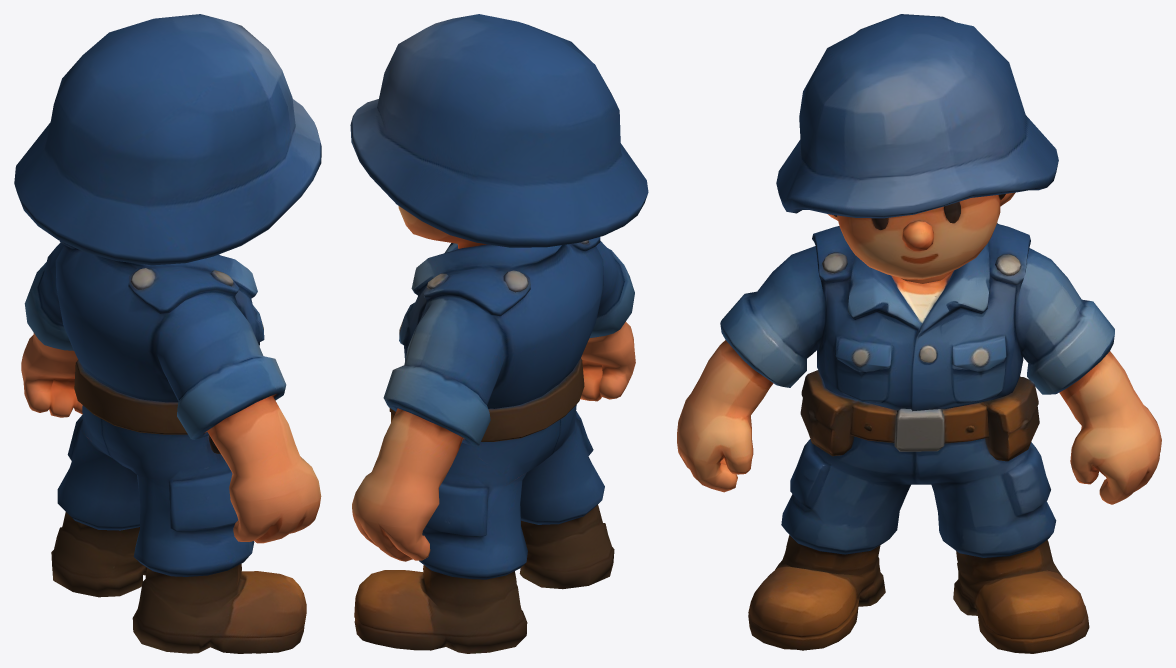
The picture shows the model from 3 angles, left to right: view 1: azimuth 30°, elevation 25°; view 2: azimuth 150°, elevation 25°; view 3: azimuth 270°, elevation 25°; orthographic projection. The views are drawn at different scales.
Parts seen in each view (by area): view 1: tripo_node_30c38a41-809c-4185-ad6c-9489bc3c5b04; view 2: tripo_node_30c38a41-809c-4185-ad6c-9489bc3c5b04; view 3: tripo_node_30c38a41-809c-4185-ad6c-9489bc3c5b04.
Boxes of the visible parts, <box> form: tripo_node_30c38a41-809c-4185-ad6c-9489bc3c5b04: <box>14,14,321,653</box>; tripo_node_30c38a41-809c-4185-ad6c-9489bc3c5b04: <box>350,14,648,653</box>; tripo_node_30c38a41-809c-4185-ad6c-9489bc3c5b04: <box>677,14,1161,653</box>.
Bounding box in the file's own units: 0.4863 × 0.998 × 0.7441.
Materials: 1 (1 with a texture image).
